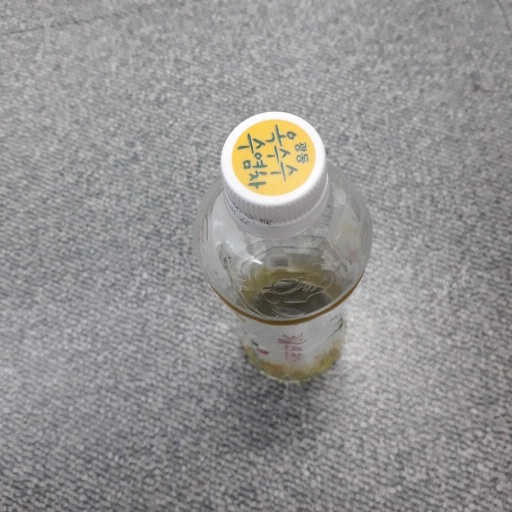Plastic_0: (199, 111, 373, 394)
